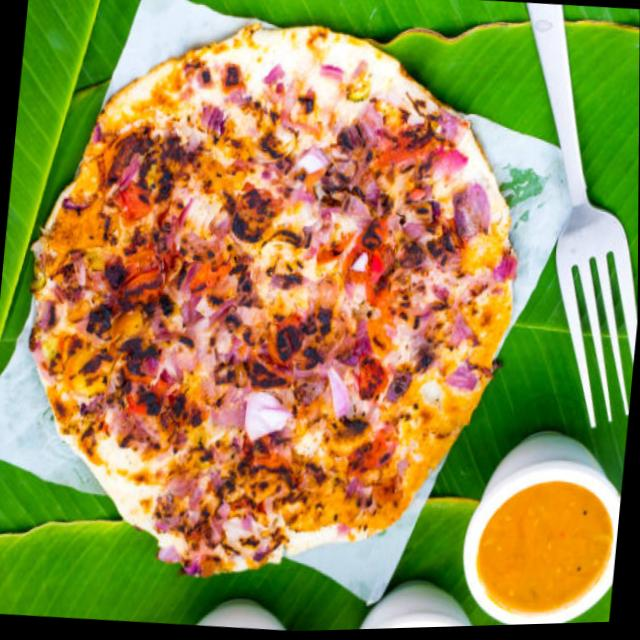DOSA: (34, 26, 509, 572)
SAMBAR: (475, 485, 609, 606)
